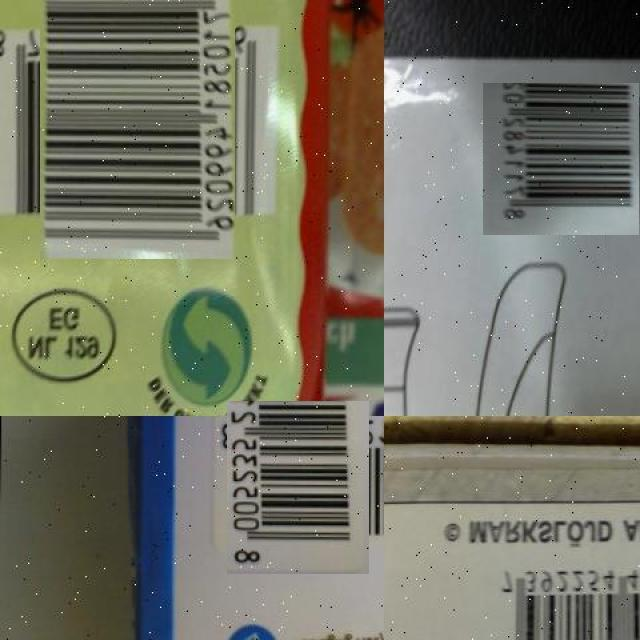Barcode: (20, 5, 255, 240), (218, 409, 377, 566), (485, 80, 640, 238), (486, 559, 640, 640)
